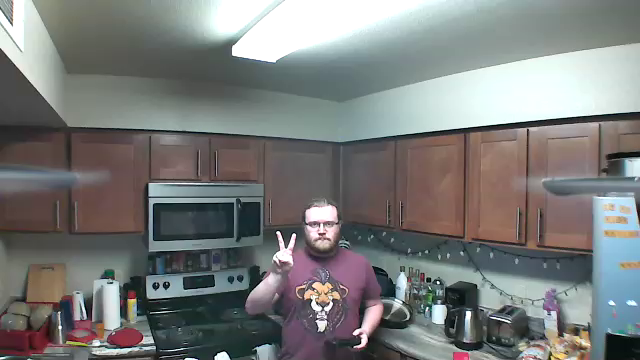peace: (269, 224, 301, 277)
